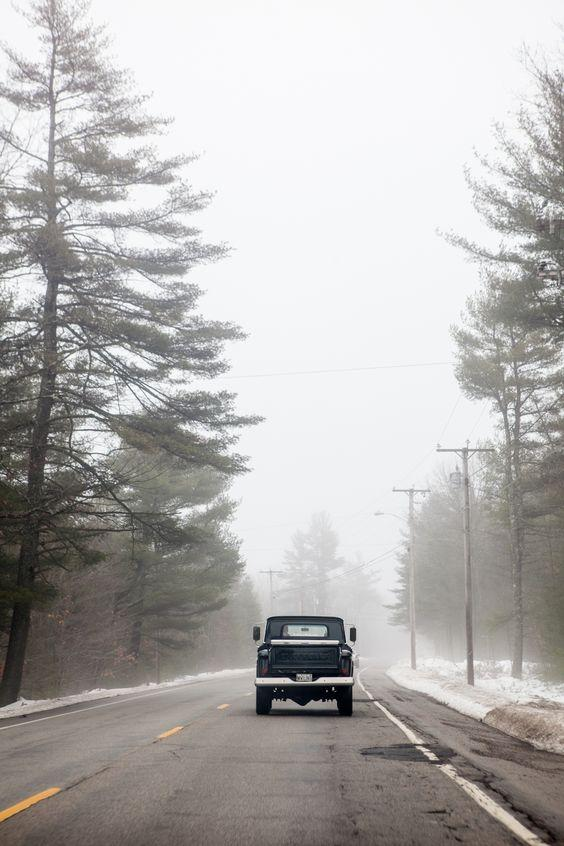car: (251, 613, 357, 716)
